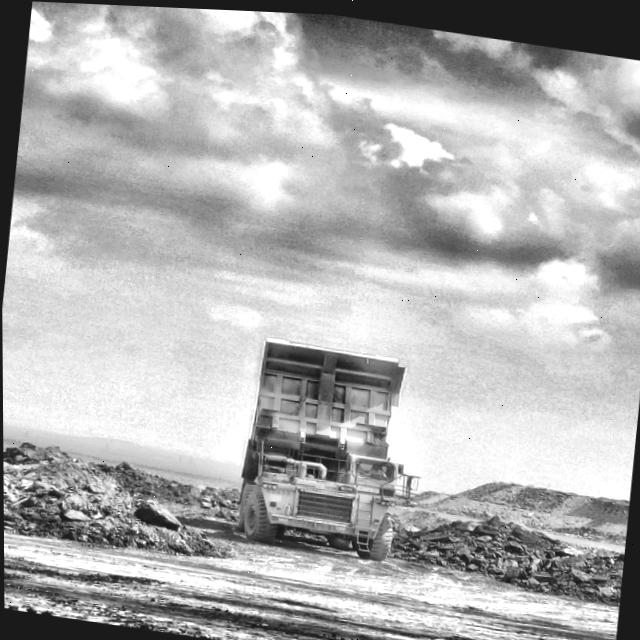dump_truck: (240, 343, 407, 552)
